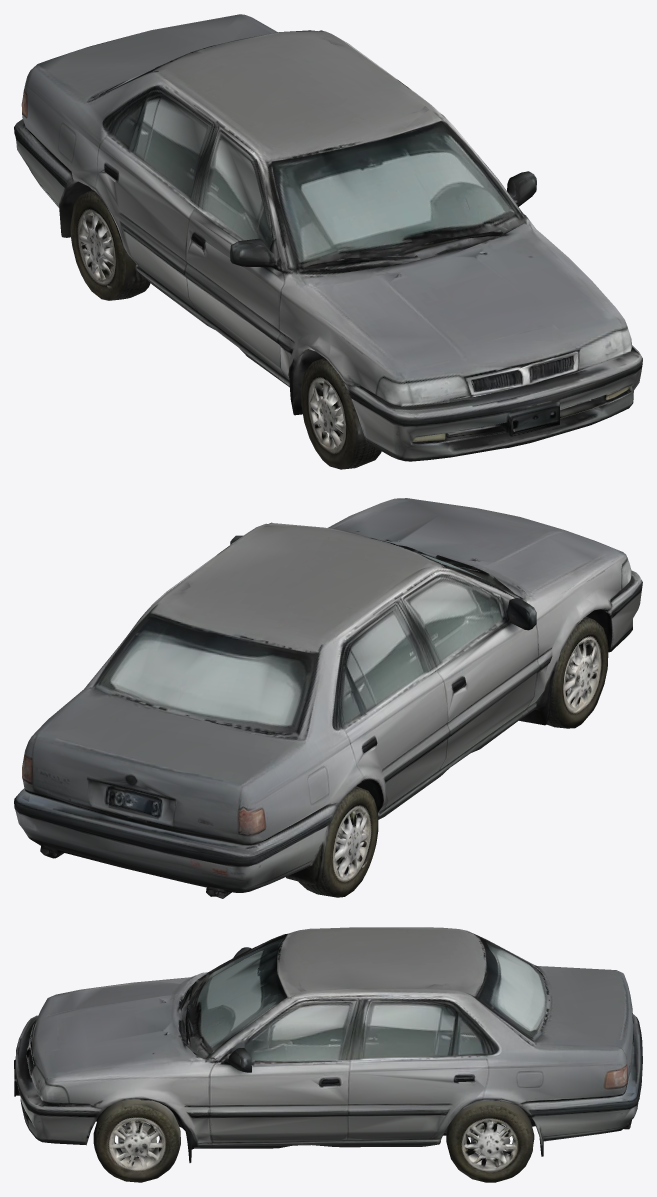
Rendered from sedan_grey.glb.
3 renders of one model, top to bottom at view 1: azimuth 30°, elevation 25°; view 2: azimuth 150°, elevation 25°; view 3: azimuth 270°, elevation 25°, orthographic. The views are drawn at different scales.
Parts seen in each view (by area): view 1: node_0; view 2: node_0; view 3: node_0.
Boxes of the visible parts, bbox=[...] form: node_0: bbox=[14, 14, 642, 469]; node_0: bbox=[14, 498, 642, 898]; node_0: bbox=[14, 927, 642, 1182].
Size of the model in its own units: 0.4956 by 0.3706 by 1.16.
1 material, 1 textured.
